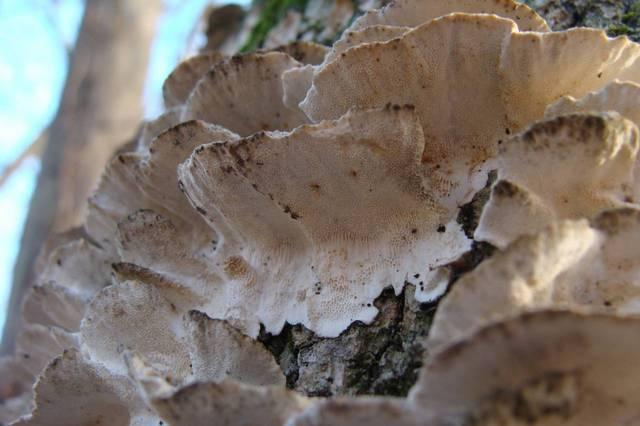Non-edible Mushroom: (2, 1, 637, 424), (174, 101, 473, 338)
